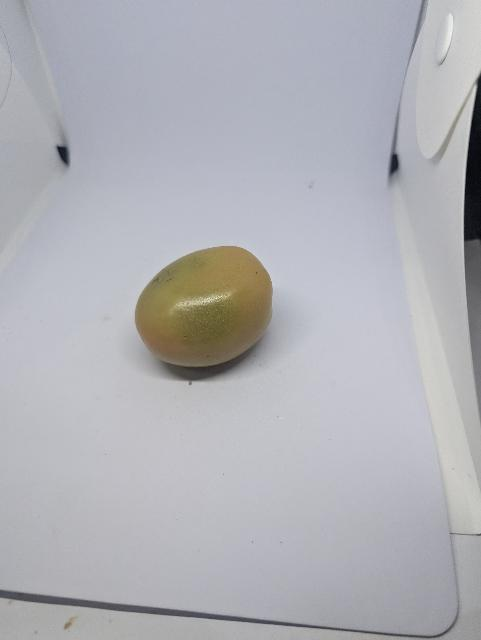breaker: (124, 233, 292, 374)
